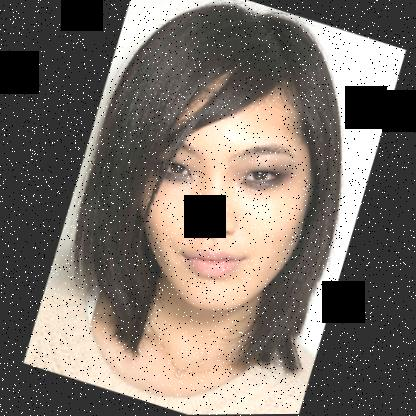Female: (108, 58, 340, 331)
